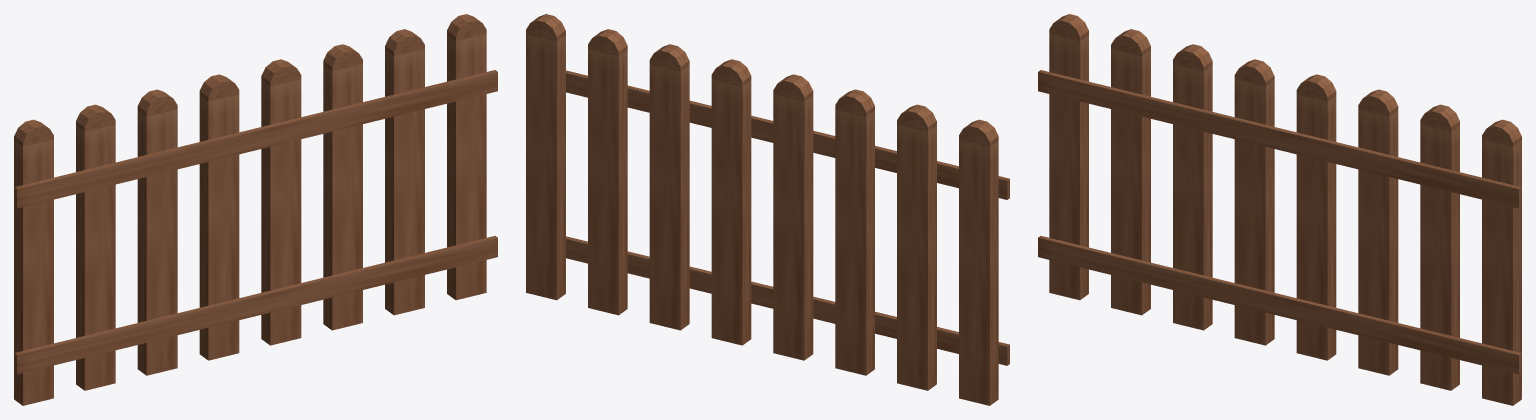
File: roundedfence.fbx
The picture shows the model from 3 angles, left to right: view 1: azimuth 30°, elevation 25°; view 2: azimuth 150°, elevation 25°; view 3: azimuth 330°, elevation 25°; orthographic projection.
Parts seen in each view (by area): view 1: cuboid_2, cuboid_9, cuboid_4, cuboid_6, cuboid_5, cuboid_8, cuboid_1, cuboid_3, cuboid_7, cuboid, cylinder, cylinder_3 (+6 smaller); view 2: cuboid_4, cuboid_5, cuboid_3, cuboid_6, cuboid_7, cuboid_1, cuboid_8, cuboid, cuboid_2, cuboid_9, cylinder_4, cylinder_3 (+6 smaller); view 3: cuboid_2, cuboid_9, cuboid_3, cuboid_5, cuboid_4, cuboid, cuboid_6, cuboid_7, cuboid_1, cuboid_8, cylinder_3, cylinder (+6 smaller).
Boxes of the visible parts, left/top/right/bottom form: cuboid_2: left=14, top=70, right=497, bottom=208; cuboid_9: left=14, top=236, right=497, bottom=374; cuboid_4: left=261, top=79, right=301, bottom=345; cuboid_6: left=137, top=109, right=177, bottom=375; cuboid_5: left=199, top=94, right=239, bottom=360; cuboid_8: left=14, top=139, right=53, bottom=405; cuboid_1: left=385, top=49, right=424, bottom=315; cuboid_3: left=323, top=64, right=362, bottom=330; cuboid_7: left=76, top=124, right=115, bottom=390; cuboid: left=447, top=34, right=486, bottom=300; cylinder: left=199, top=74, right=239, bottom=101; cylinder_3: left=261, top=59, right=301, bottom=86; cuboid_4: left=711, top=79, right=751, bottom=345; cuboid_5: left=773, top=94, right=813, bottom=360; cuboid_3: left=649, top=64, right=689, bottom=330; cuboid_6: left=835, top=109, right=874, bottom=375; cuboid_7: left=897, top=124, right=936, bottom=390; cuboid_1: left=588, top=49, right=627, bottom=315; cuboid_8: left=959, top=139, right=998, bottom=405; cuboid: left=526, top=34, right=565, bottom=300; cuboid_2: left=566, top=70, right=1009, bottom=199; cuboid_9: left=566, top=236, right=1009, bottom=365; cylinder_4: left=649, top=44, right=689, bottom=71; cylinder_3: left=711, top=59, right=751, bottom=86; cuboid_2: left=1038, top=70, right=1521, bottom=208; cuboid_9: left=1038, top=236, right=1521, bottom=374; cuboid_3: left=1358, top=109, right=1398, bottom=375; cuboid_5: left=1234, top=79, right=1274, bottom=345; cuboid_4: left=1296, top=94, right=1336, bottom=360; cuboid: left=1482, top=139, right=1521, bottom=405; cuboid_6: left=1173, top=64, right=1212, bottom=330; cuboid_7: left=1111, top=49, right=1150, bottom=315; cuboid_1: left=1420, top=124, right=1459, bottom=390; cuboid_8: left=1049, top=34, right=1088, bottom=300; cylinder_3: left=1296, top=74, right=1336, bottom=101; cylinder: left=1234, top=59, right=1274, bottom=86.
Bounding box in the file's own units: 97.19 × 53.12 × 4.06.
Materials: 1 (1 with a texture image).
